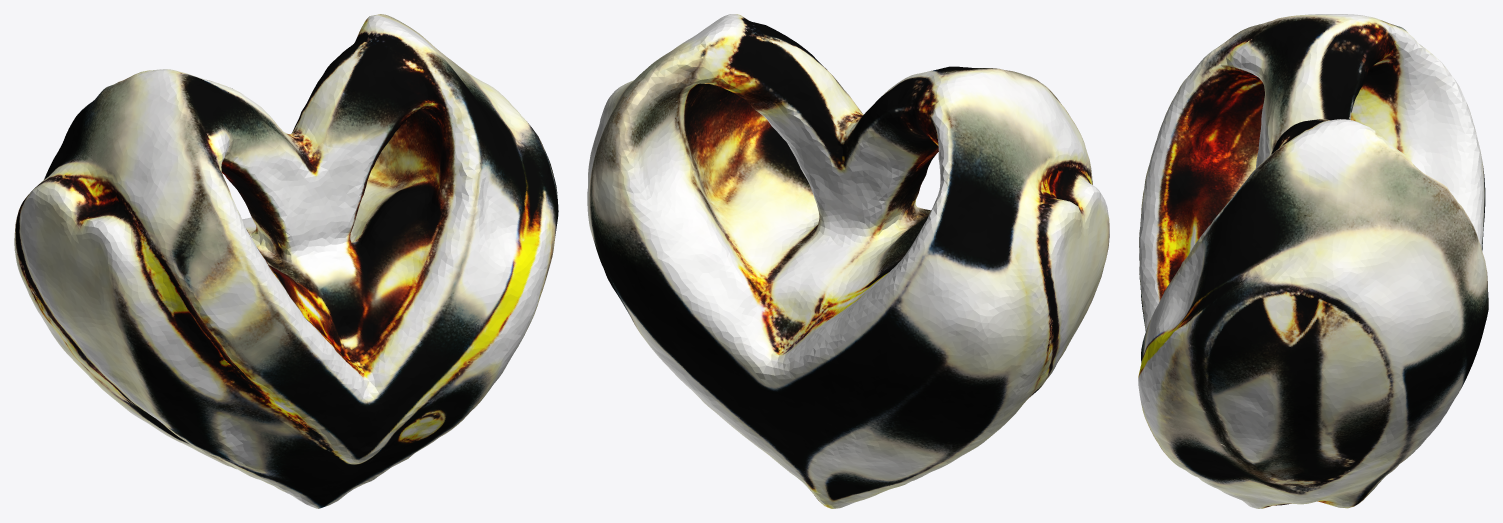
Rendered from Siam-Hero.glb.
3 renders of one model, left to right at view 1: azimuth 30°, elevation 25°; view 2: azimuth 150°, elevation 25°; view 3: azimuth 270°, elevation 25°, orthographic. The views are drawn at different scales.
Visible parts, largest first — view 1: mesh.obj; view 2: mesh.obj; view 3: mesh.obj.
Boxes of the visible parts, x1,y1,x2,y2 form: mesh.obj: (14,14,558,508); mesh.obj: (587,14,1109,508); mesh.obj: (1138,14,1488,508).
Bounding box in the file's own units: 0.774 × 0.689 × 0.4999.
1 material, 1 textured.
